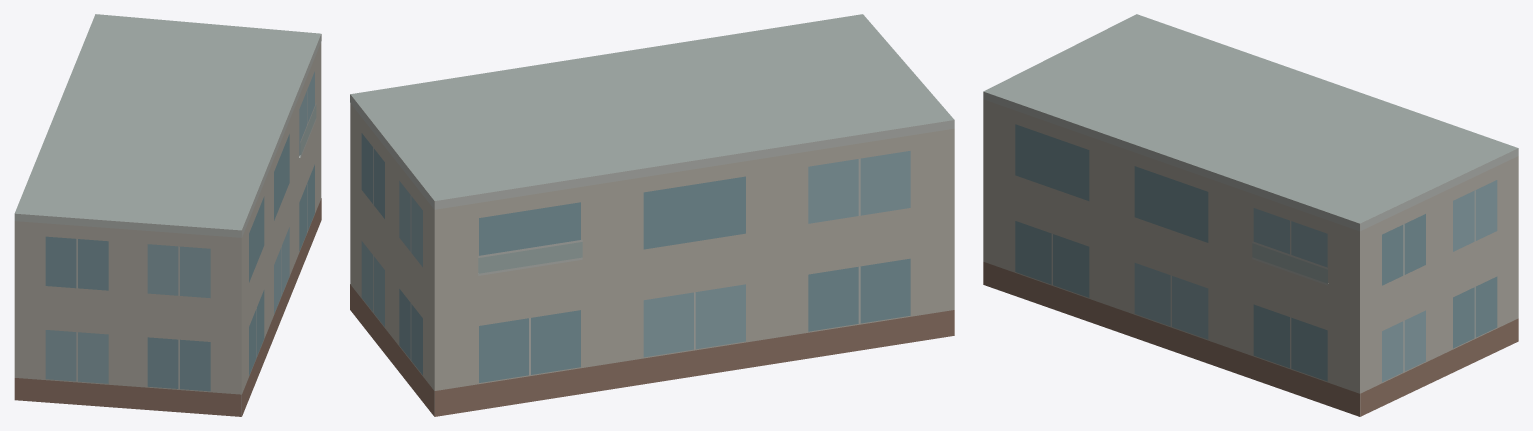
Rendered from survey-upis-33010378.glb.
3 views of the same model, side by side, from view 1: azimuth 30°, elevation 25°; view 2: azimuth 150°, elevation 25°; view 3: azimuth 270°, elevation 25° (orthographic). The views are drawn at different scales.
Visible parts, largest first — view 1: survey-upis-33010378.tmp; view 2: survey-upis-33010378.tmp; view 3: survey-upis-33010378.tmp.
Part boxes in pixels (x1,y1,x2,y2): survey-upis-33010378.tmp: [14, 14, 321, 416]; survey-upis-33010378.tmp: [350, 14, 954, 416]; survey-upis-33010378.tmp: [983, 14, 1518, 416].
Size of the model in its own units: 14.21 by 6.1 by 15.33.
